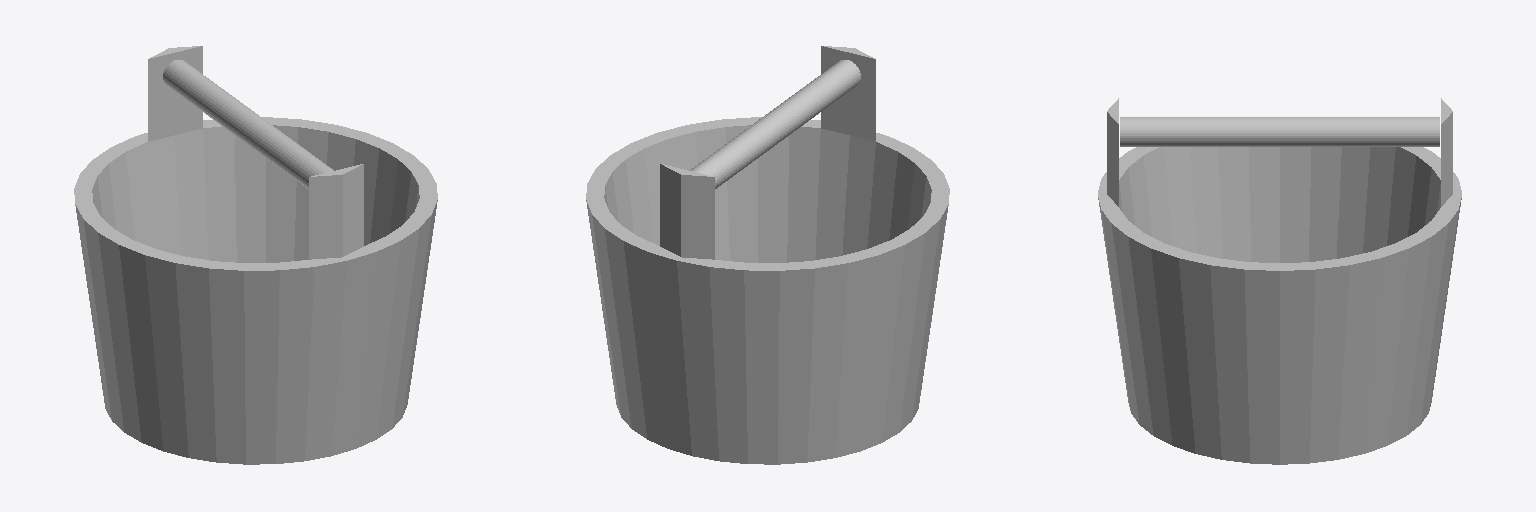
The model's file is container.obj.
3 views of the same model, side by side, from view 1: azimuth 30°, elevation 25°; view 2: azimuth 150°, elevation 25°; view 3: azimuth 270°, elevation 25° (orthographic).
Visible parts, largest first — view 1: Circle_Circle.001; view 2: Circle_Circle.001; view 3: Circle_Circle.001.
Boxes of the visible parts, box(x1,y1,x2,y2) form: Circle_Circle.001: box(74, 46, 437, 464); Circle_Circle.001: box(586, 46, 949, 464); Circle_Circle.001: box(1098, 98, 1461, 464).
Size of the model in its own units: 2.4 by 2.1 by 2.4.